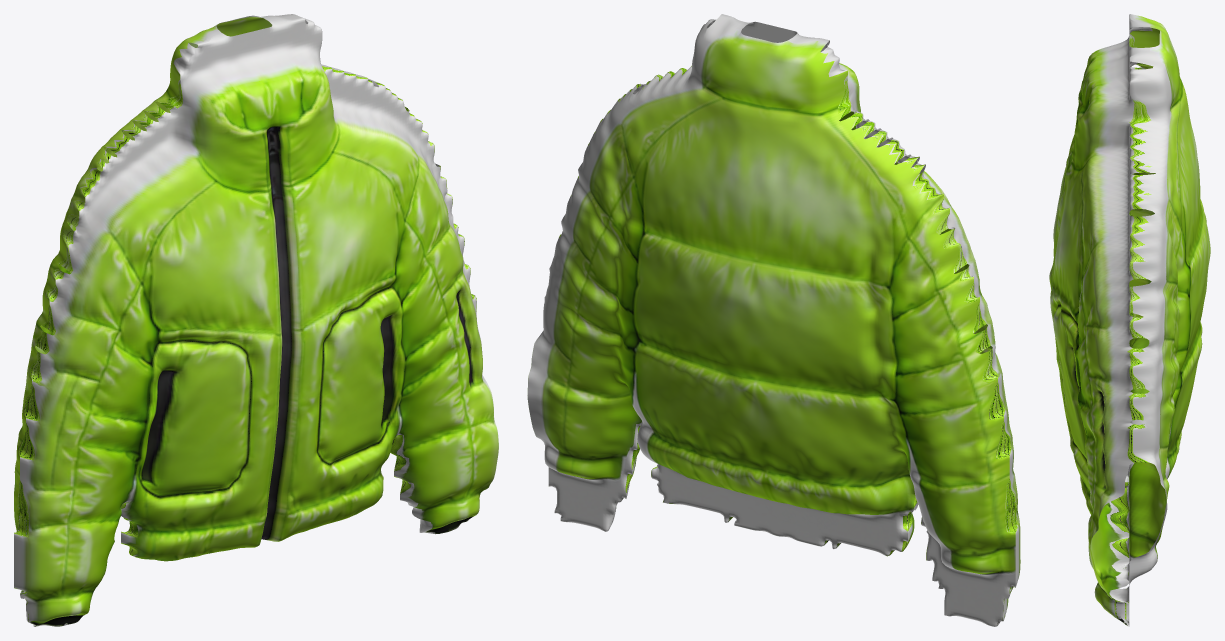
File: jacket_lime.glb
The picture shows the model from 3 angles, left to right: view 1: azimuth 30°, elevation 25°; view 2: azimuth 150°, elevation 25°; view 3: azimuth 270°, elevation 25°; orthographic projection. The views are drawn at different scales.
Parts seen in each view (by area): view 1: Jacket_Lime_3D_Watertight; view 2: Jacket_Lime_3D_Watertight; view 3: Jacket_Lime_3D_Watertight.
Boxes of the visible parts, x1,y1,x2,y2 form: Jacket_Lime_3D_Watertight: [14, 14, 498, 626]; Jacket_Lime_3D_Watertight: [527, 14, 1020, 626]; Jacket_Lime_3D_Watertight: [1049, 14, 1210, 626].
Bounding box in the file's own units: 2.17 × 2.43 × 0.7189.
2 materials, 2 textured.
